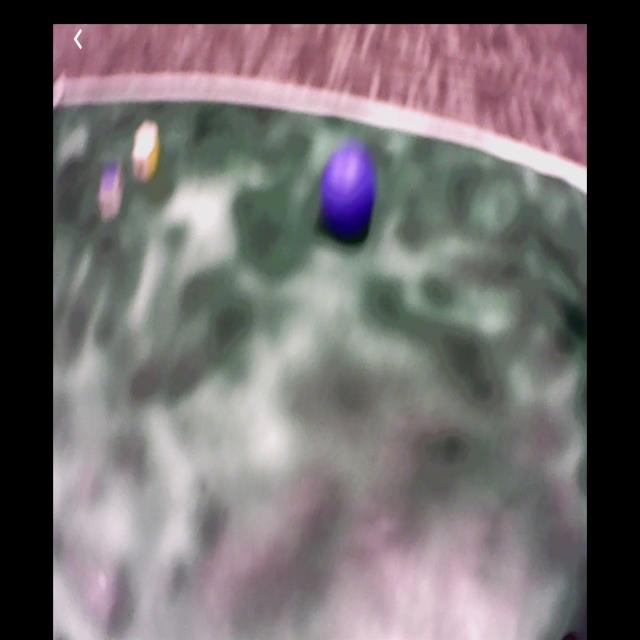ball: (322, 143, 373, 240)
